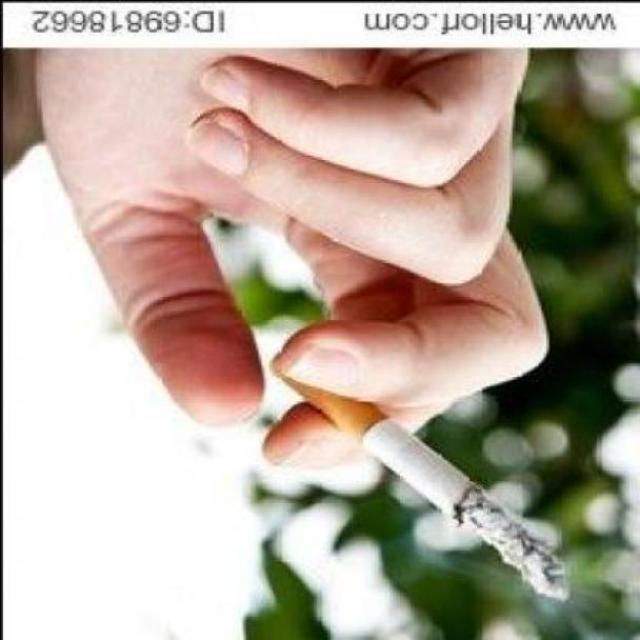rokok: (266, 342, 572, 602)
